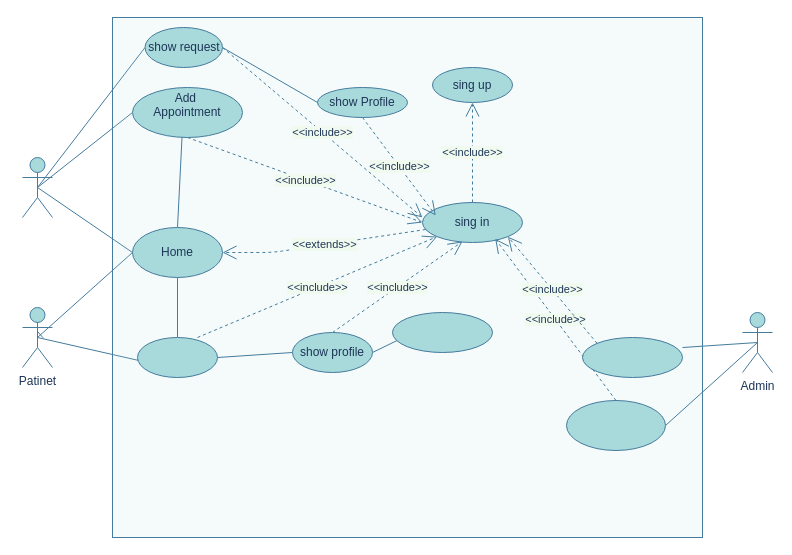
This 792x555 diagram has some shape labels left out. Here are the shapes that lost their labels. From the top down, the centre of each, then its label:
point 37,187: donator
point 442,332: add request
point 177,357: show dononors
point 632,357: Show donates
point 616,425: show Patients
